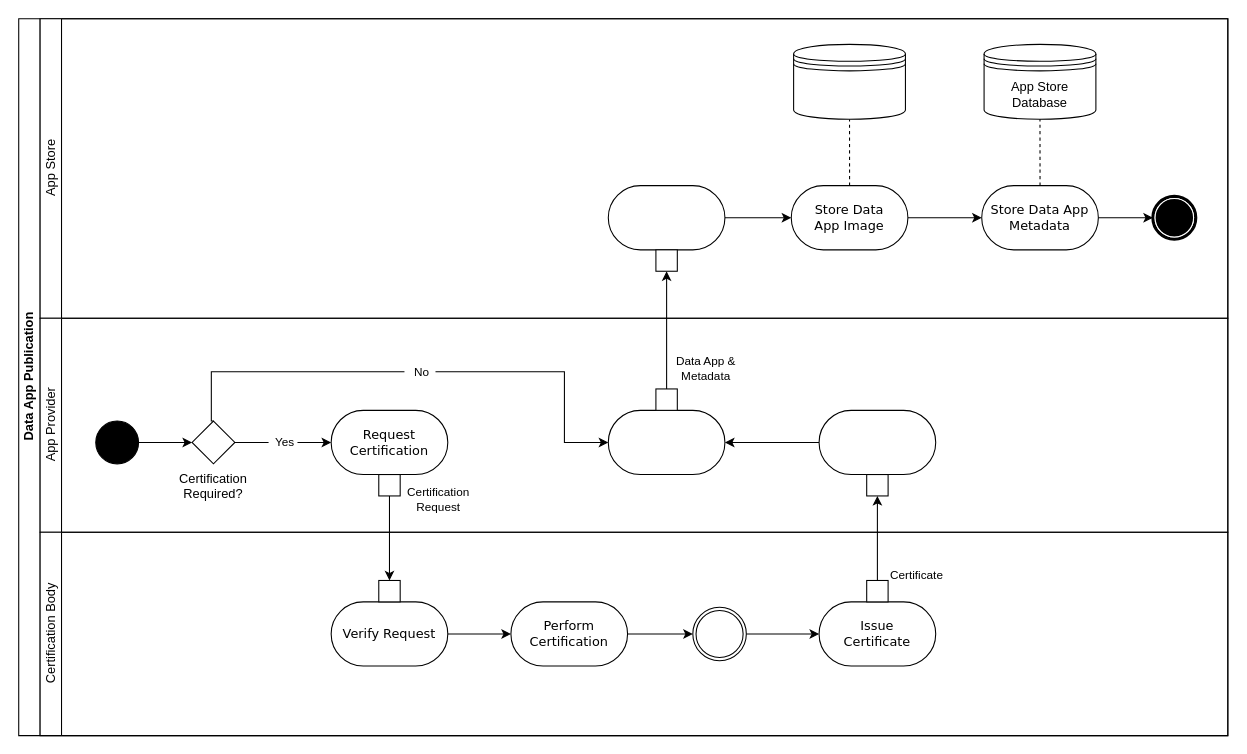
Some shapes in this 1247 by 754 pixel diagram are drawn without their labels. The shapes that lost their labels are listed below. From the top down, each one's centre as x and y in pixels, then its label:
point (849, 81): App Store Image Registry
point (666, 217): Receive Data App
point (666, 442): Publish Data App
point (877, 442): Receive Certificate
point (719, 633): Approved
